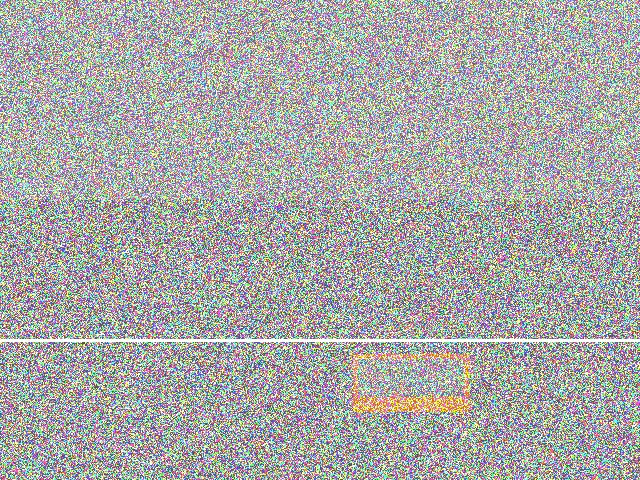bus: (283, 167, 390, 229)
